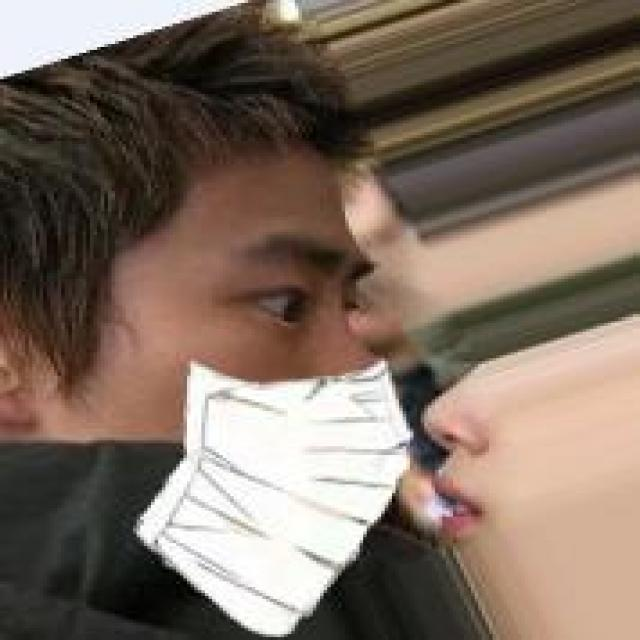mask: (21, 68, 414, 534)
